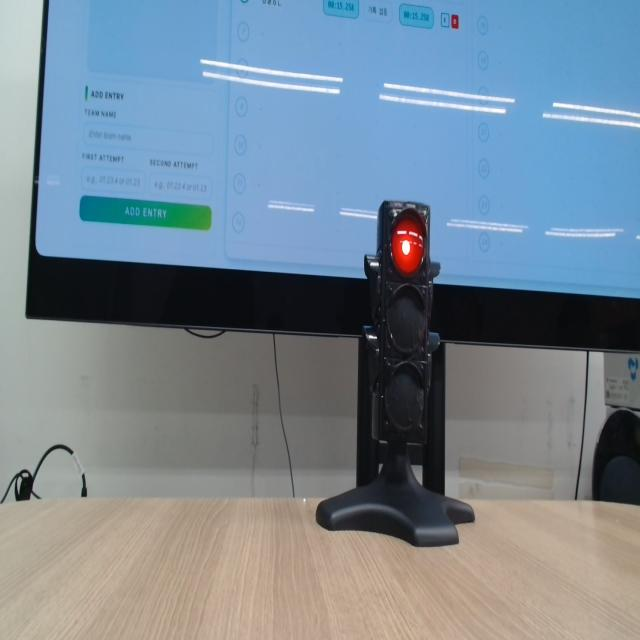red_light: (391, 214, 425, 277)
